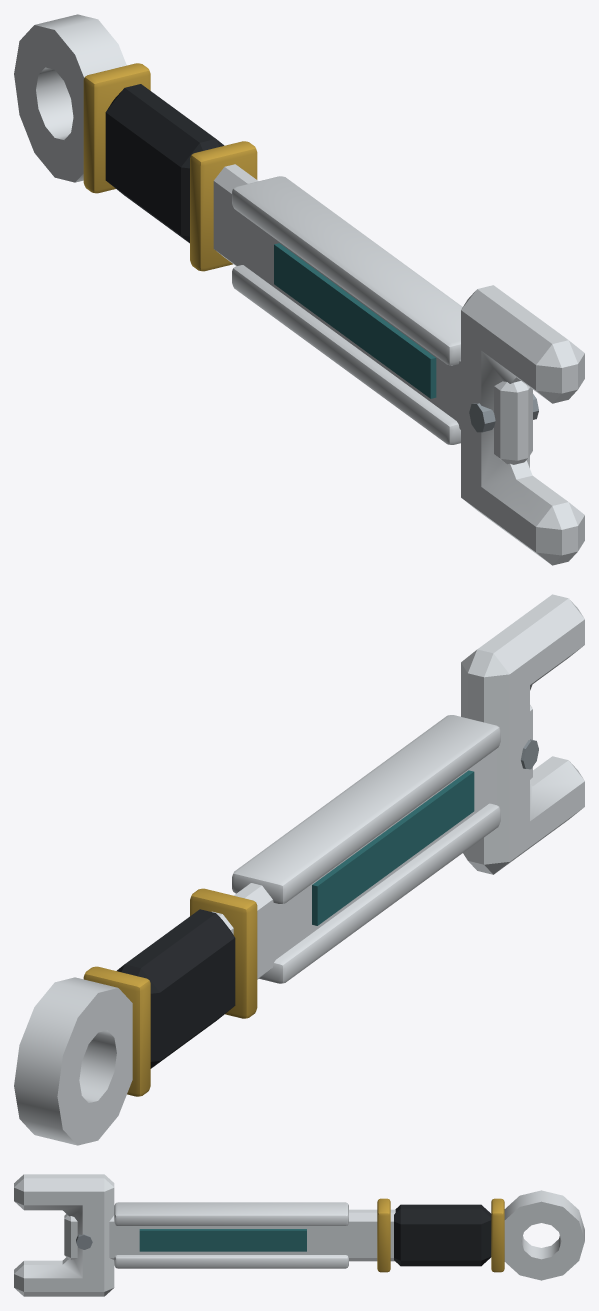
Rendered from Weapon_Wrench.fbx.
3 renders of one model, top to bottom at view 1: azimuth 30°, elevation 25°; view 2: azimuth 150°, elevation 25°; view 3: azimuth 270°, elevation 25°, orthographic. The views are drawn at different scales.
Parts seen in each view (by area): view 1: Wrench; view 2: Wrench; view 3: Wrench.
Part boxes in pixels (x1,y1,x2,y2): Wrench: [14, 14, 584, 565]; Wrench: [14, 594, 584, 1145]; Wrench: [14, 1174, 584, 1296].
Bounding box in the file's own units: 0.22 × 0.78 × 3.41.
